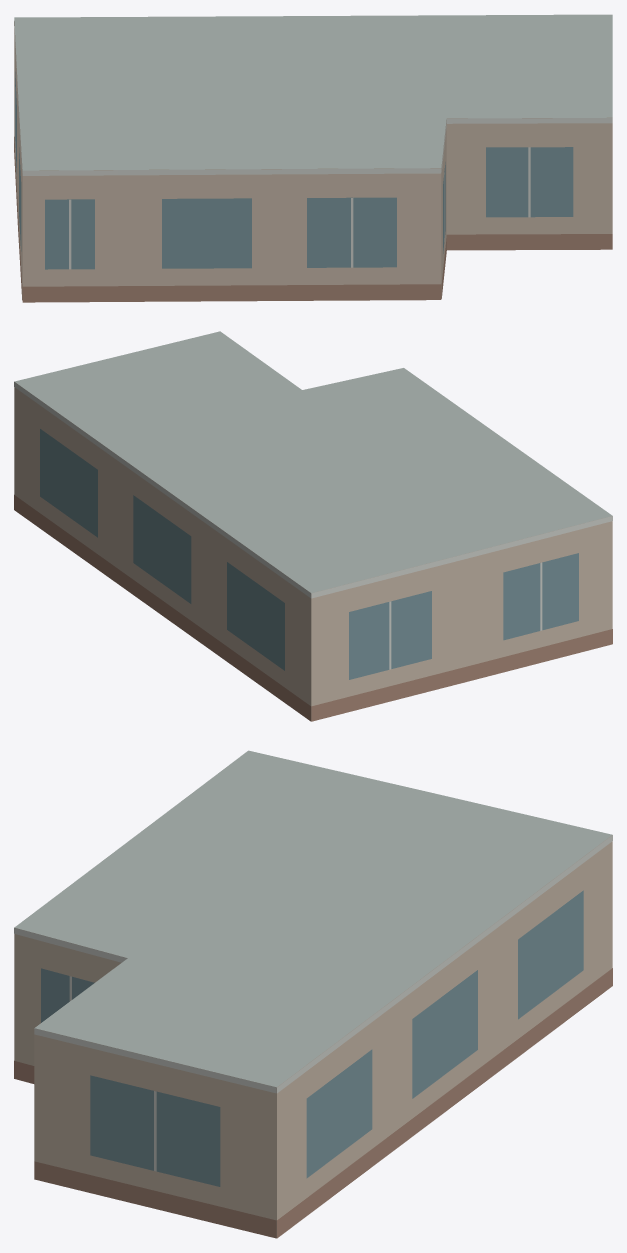
Rendered from survey-upis-32724795.glb.
3 views of the same model, one above another, from view 1: azimuth 30°, elevation 25°; view 2: azimuth 150°, elevation 25°; view 3: azimuth 270°, elevation 25° (orthographic). The views are drawn at different scales.
Visible parts, largest first — view 1: survey-upis-32724795.tmp; view 2: survey-upis-32724795.tmp; view 3: survey-upis-32724795.tmp.
Boxes of the visible parts, x1,y1,x2,y2 form: survey-upis-32724795.tmp: (14, 14, 612, 302); survey-upis-32724795.tmp: (14, 331, 612, 721); survey-upis-32724795.tmp: (14, 750, 612, 1238).
Size of the model in its own units: 14.59 by 3.05 by 10.96.
